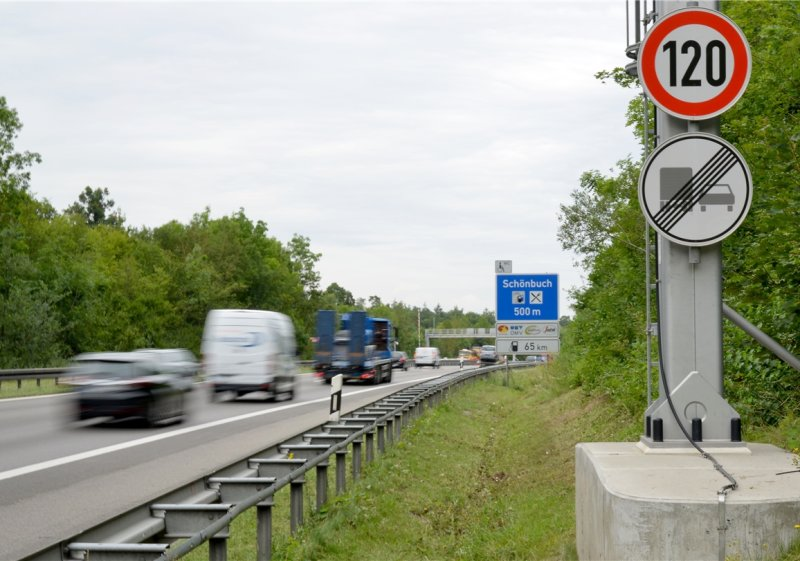Speed_limit_120km: (634, 7, 755, 123)
